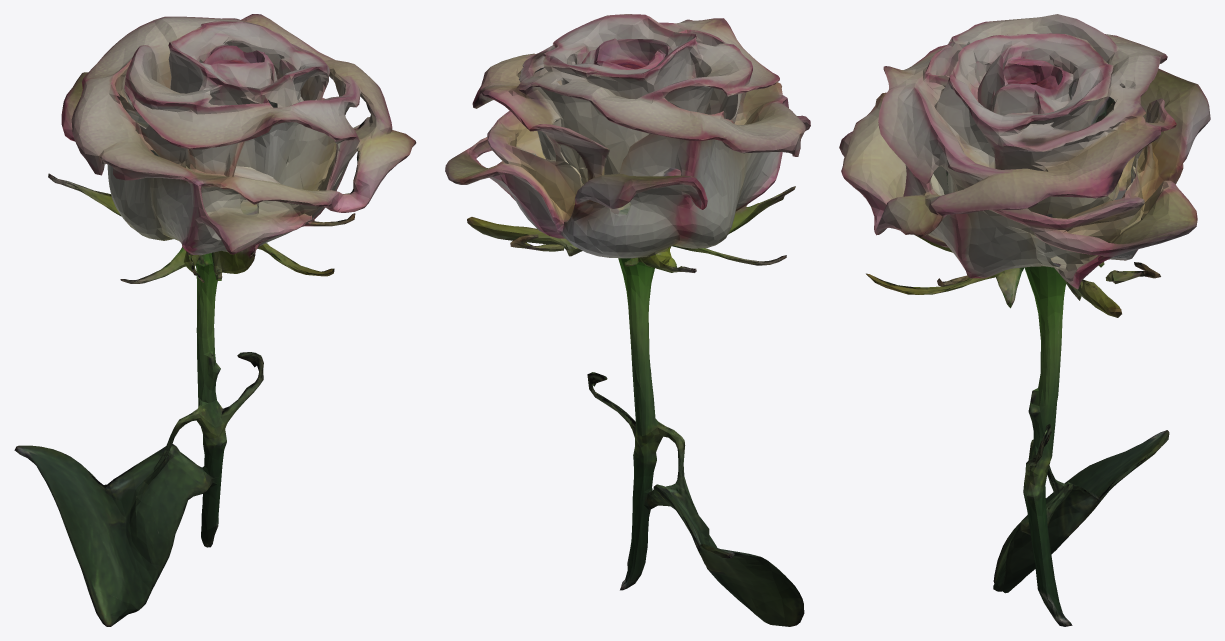
3 renders of one model, left to right at view 1: azimuth 30°, elevation 25°; view 2: azimuth 150°, elevation 25°; view 3: azimuth 270°, elevation 25°, orthographic. The views are drawn at different scales.
Visible parts, largest first — view 1: world; view 2: world; view 3: world.
Boxes of the visible parts, bbox=[...] form: world: bbox=[14, 14, 416, 626]; world: bbox=[445, 14, 810, 626]; world: bbox=[839, 14, 1210, 626].
Size of the model in its own units: 0.5518 by 0.9537 by 0.5306.
Materials: 1 (1 with a texture image).
